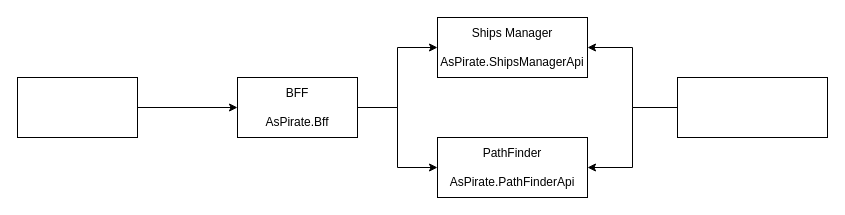
Some shapes in this 845 by 215 pixel diagram are drawn without their labels. The centre of each missing label's shape, as x and y in pixels:
"Frontend AsPirate.React" belongs at point 77,107.
"Transmitter AsPirate.ShipTransmitter" belongs at point 752,107.
